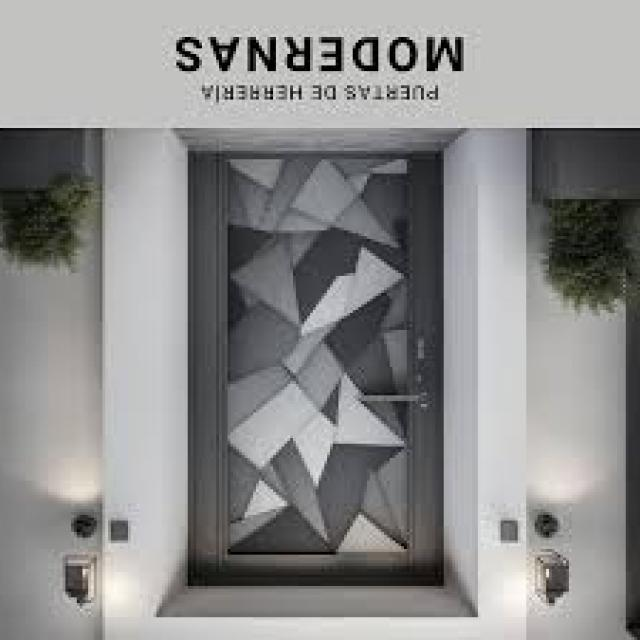door: (186, 148, 445, 589)
